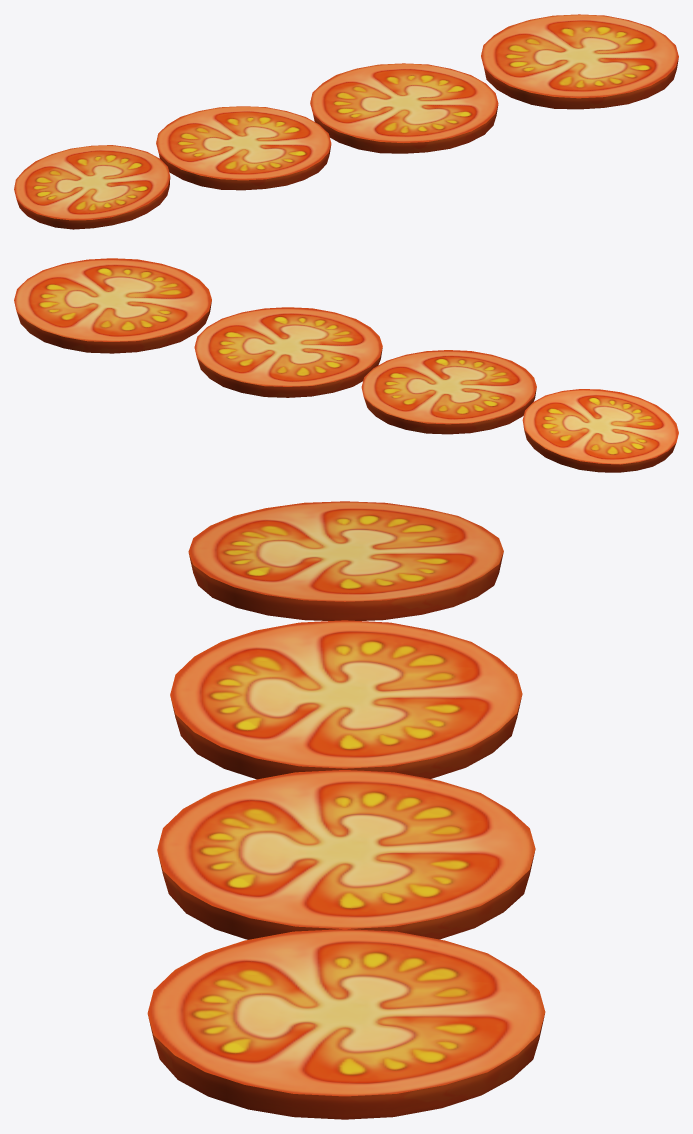
The model's file is domates_ekmek.fbx.
3 renders of one model, top to bottom at view 1: azimuth 30°, elevation 25°; view 2: azimuth 150°, elevation 25°; view 3: azimuth 270°, elevation 25°, orthographic. The views are drawn at different scales.
Visible parts, largest first — view 1: domates_ekmek; view 2: domates_ekmek; view 3: domates_ekmek.
Part boxes in pixels (left/top/right/bottom): domates_ekmek: left=14, top=14, right=678, bottom=229; domates_ekmek: left=14, top=258, right=678, bottom=472; domates_ekmek: left=147, top=501, right=545, bottom=1119.
Size of the model in its own units: 65.56 by 2.5 by 17.62.
